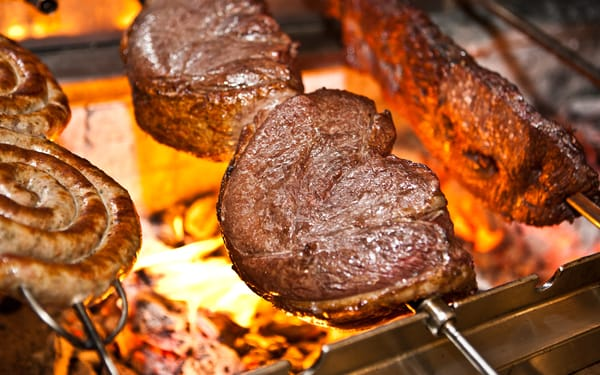sandwich: (307, 252, 600, 370)
soup: (216, 88, 477, 327)
